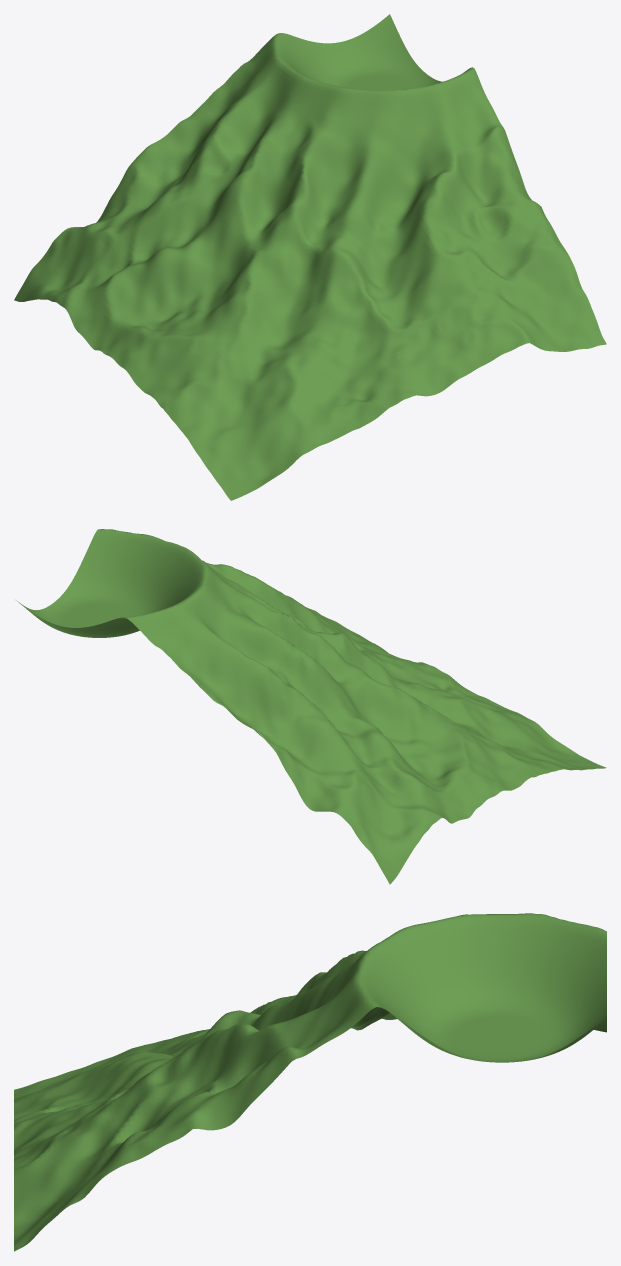
File: SM_Terrain_05_02.fbx
The picture shows the model from 3 angles, top to bottom: view 1: azimuth 30°, elevation 25°; view 2: azimuth 150°, elevation 25°; view 3: azimuth 270°, elevation 25°; orthographic projection. The views are drawn at different scales.
Parts seen in each view (by area): view 1: SM_Terrain_05_02; view 2: SM_Terrain_05_02; view 3: SM_Terrain_05_02.
Part boxes in pixels (<box>): SM_Terrain_05_02: <box>14,14,606,500</box>; SM_Terrain_05_02: <box>16,529,606,884</box>; SM_Terrain_05_02: <box>14,913,606,1251</box>.
Bounding box in the file's own units: 384 × 239 × 384.
